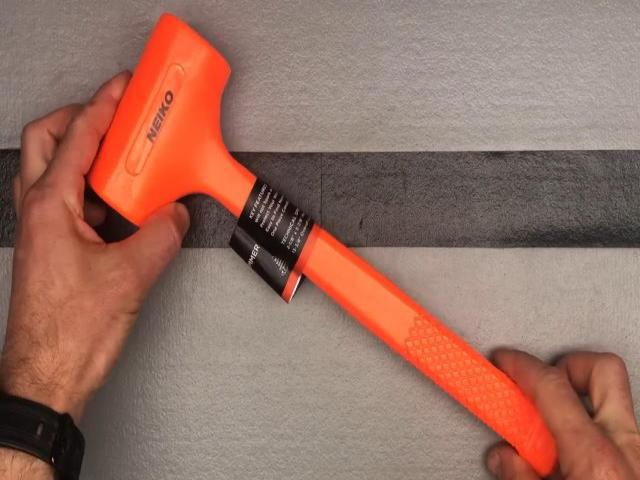hammer: (88, 15, 566, 474)
